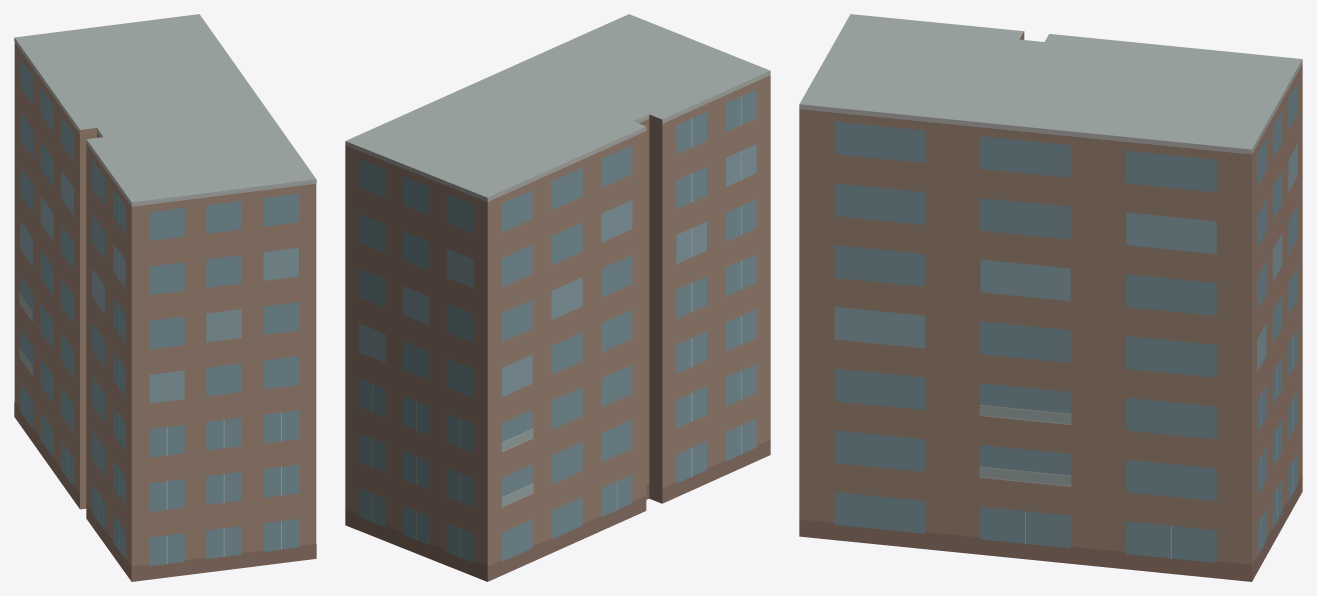
Rendered from survey-upis-32528118.glb.
3 views of the same model, side by side, from view 1: azimuth 30°, elevation 25°; view 2: azimuth 150°, elevation 25°; view 3: azimuth 270°, elevation 25° (orthographic). The views are drawn at different scales.
Visible parts, largest first — view 1: survey-upis-32528118.tmp; view 2: survey-upis-32528118.tmp; view 3: survey-upis-32528118.tmp.
Part boxes in pixels (x1=…): survey-upis-32528118.tmp: x1=14, y1=14, x2=316, y2=581; survey-upis-32528118.tmp: x1=345, y1=14, x2=770, y2=581; survey-upis-32528118.tmp: x1=799, y1=14, x2=1302, y2=581.
Bounding box in the file's own units: 14.37 × 21.35 × 22.54.
